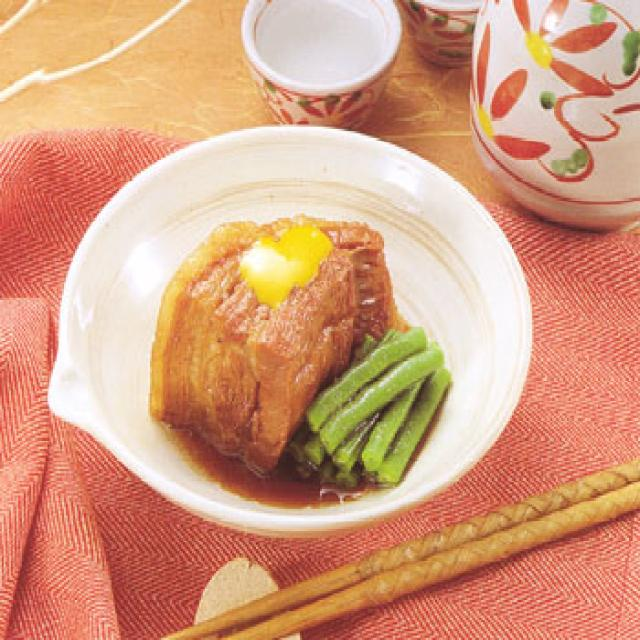猪肉菜式: (45, 113, 538, 540)
